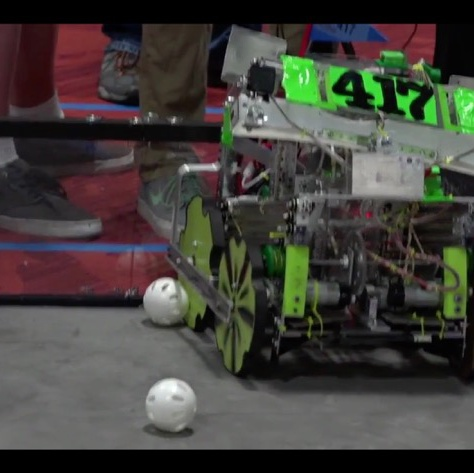robot: (159, 46, 474, 382)
